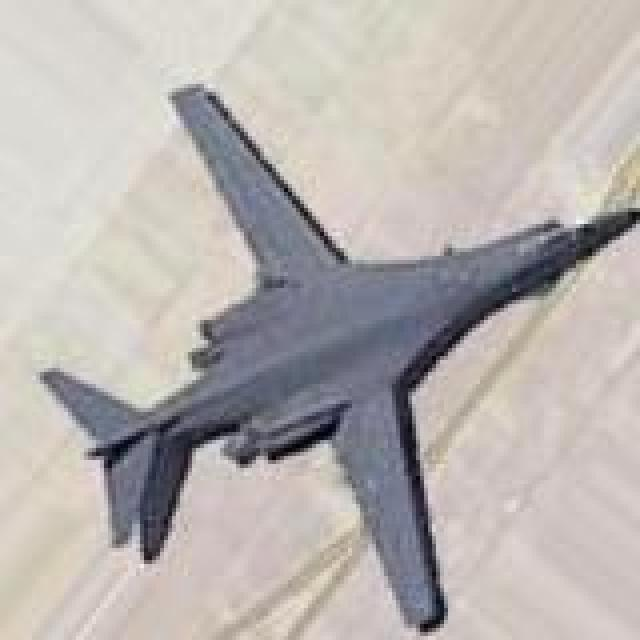B-1_TopDown: (32, 76, 636, 632)
